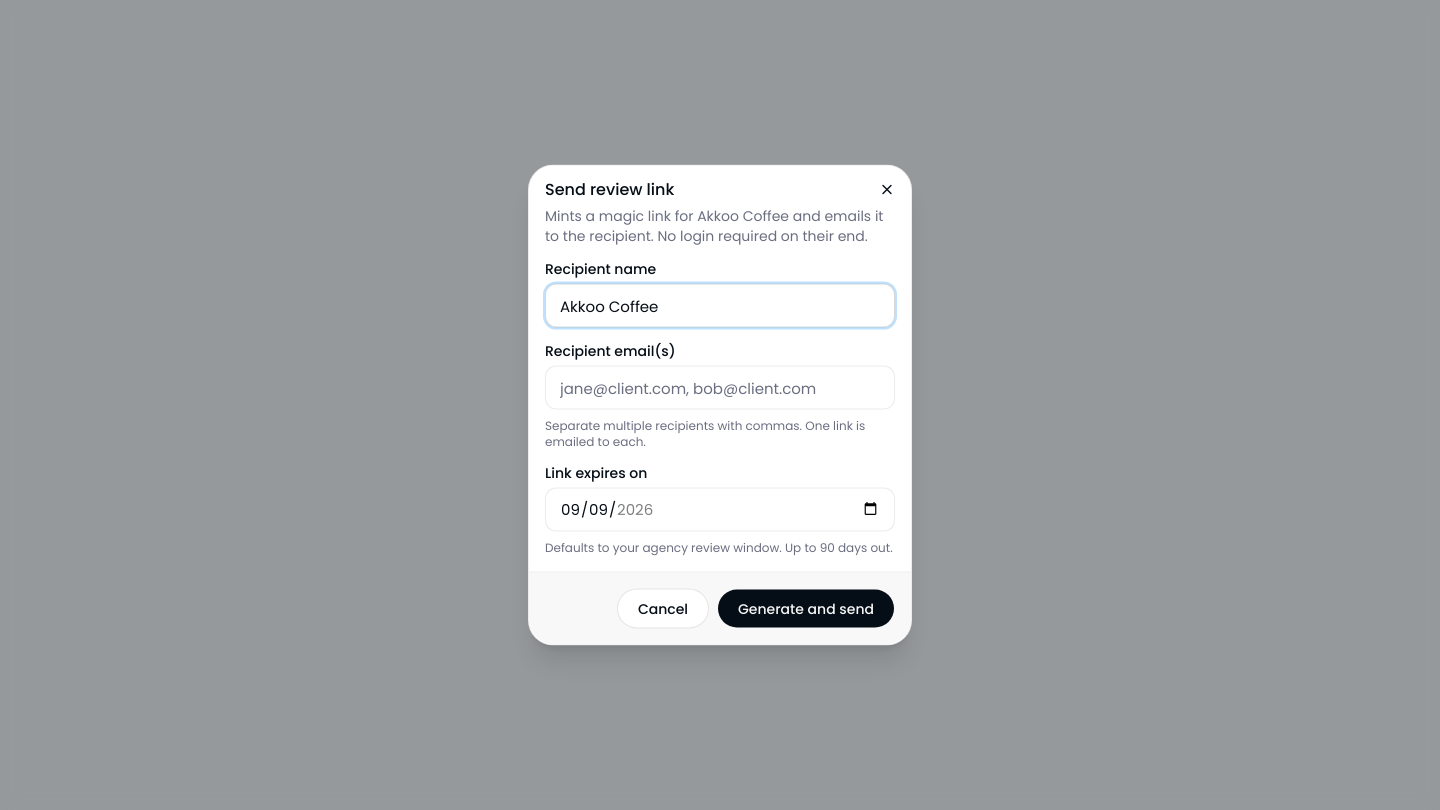
Test: SendLinkModal › blocks submit until required name + email are provided and email is valid
This screenshot has width=1440, height=810.
Click the button "Generate and send". click: (806, 608)
box: [717,588,895,628]
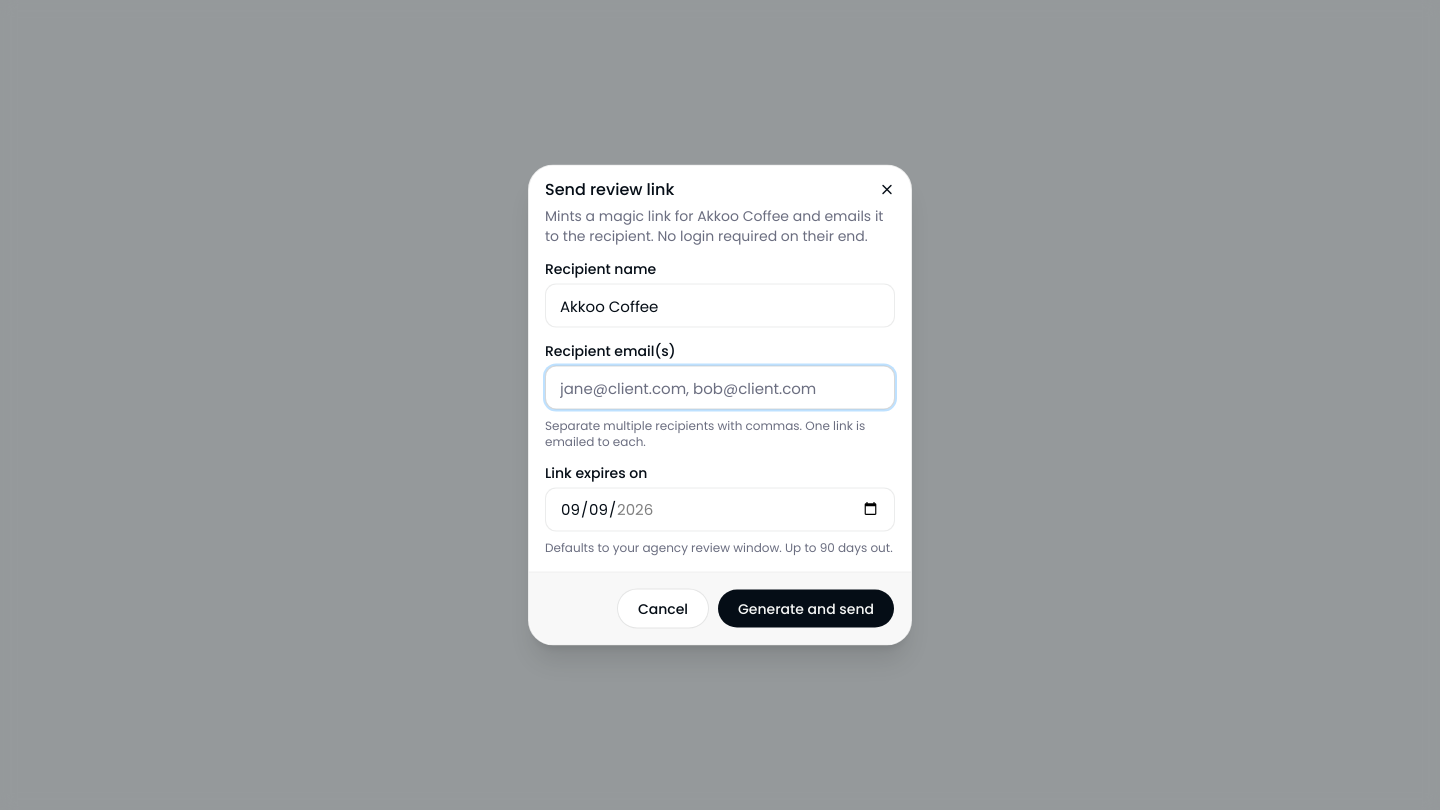
Type "Jane Doe" into the field labelled "Recipient name". click: (720, 306)
box: [545,284,895,328]
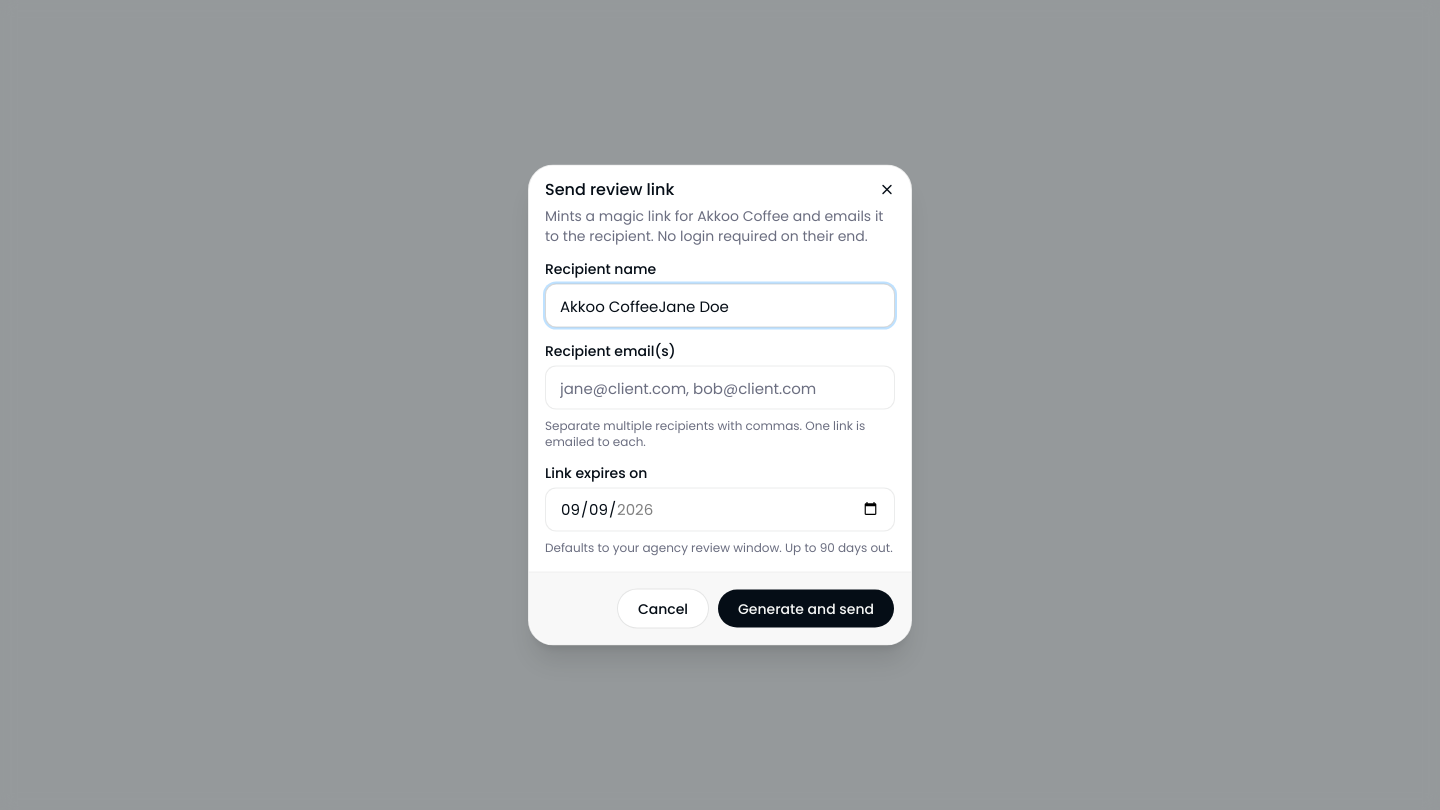
Type "not-an-email" into the field labelled "Recipient email(s)". click: (720, 388)
box: [545,366,895,410]
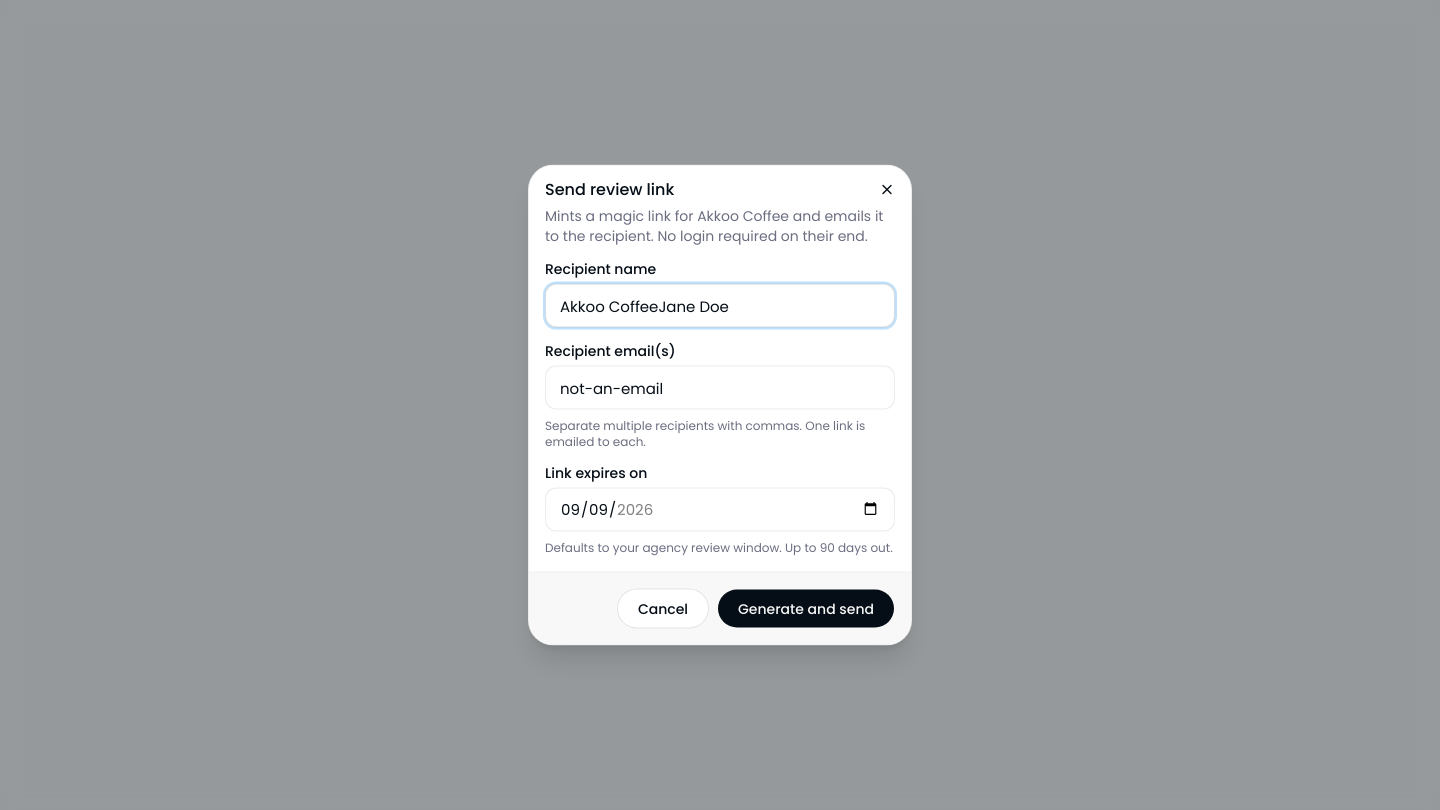
Submit the form labelled "Recipient email", box [545,262,895,628]
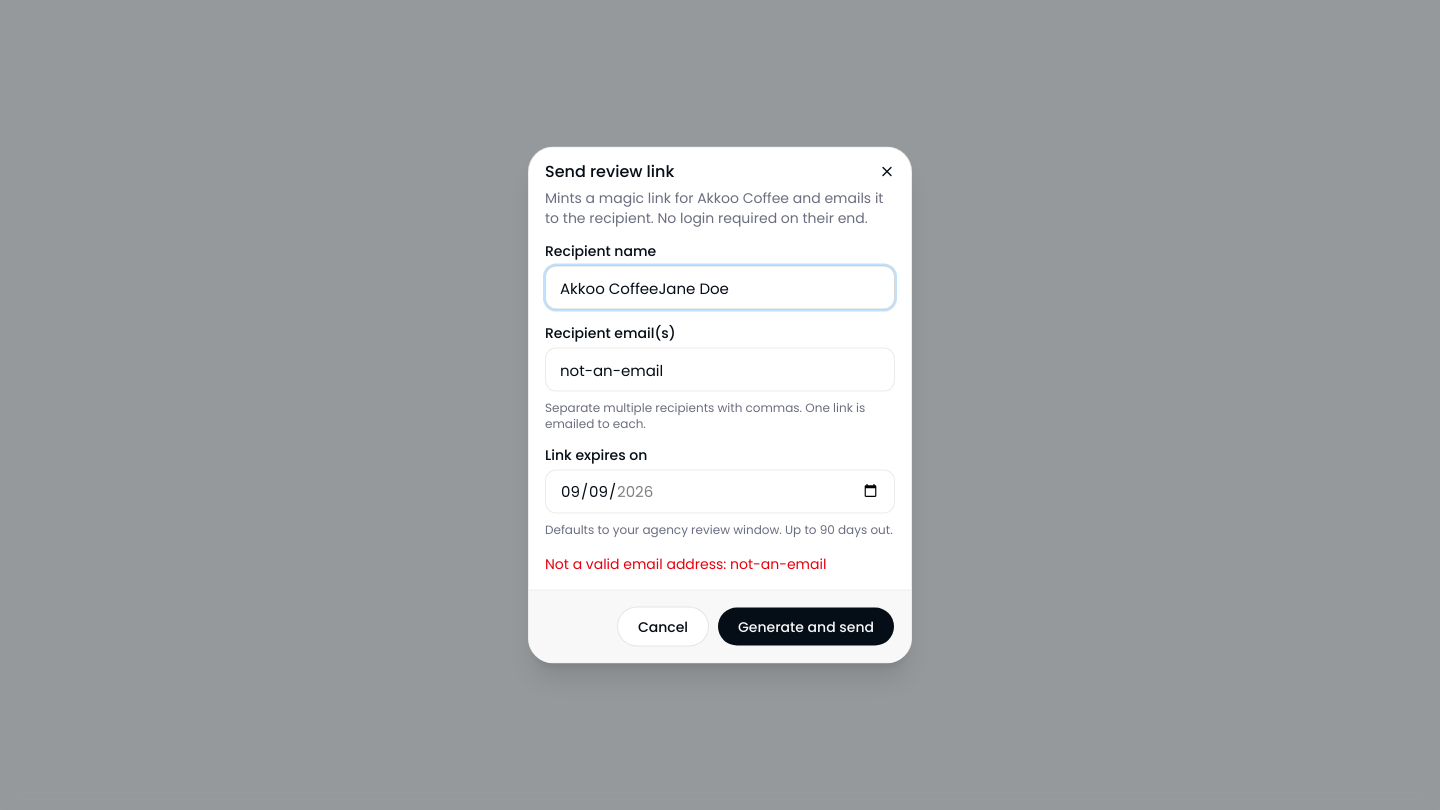
Now the message with test id "send-link-error" shows "valid", box [545,554,826,574]
